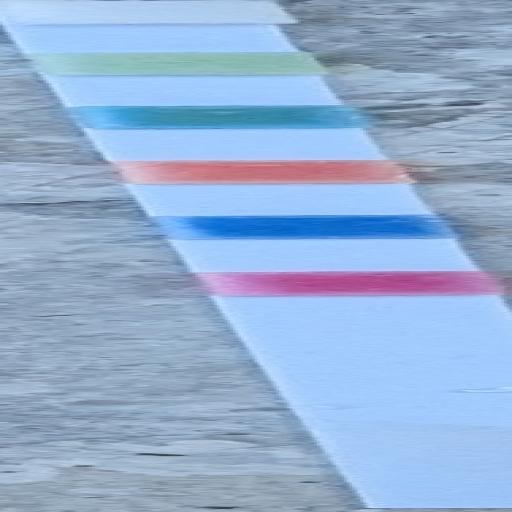pads: (180, 270, 512, 298), (27, 49, 357, 77), (144, 215, 479, 242), (108, 159, 424, 186), (0, 0, 314, 25), (72, 104, 369, 130)
